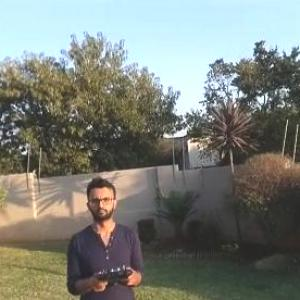follow: (62, 167, 152, 299)
